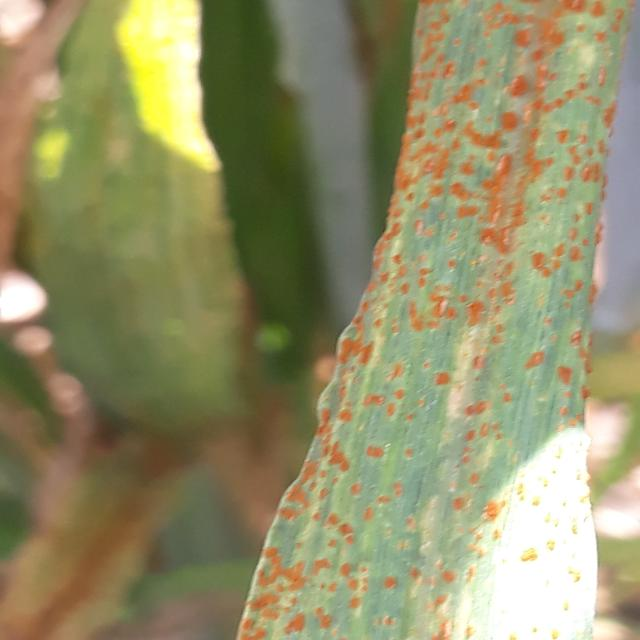orang_rust: (231, 0, 636, 640)
